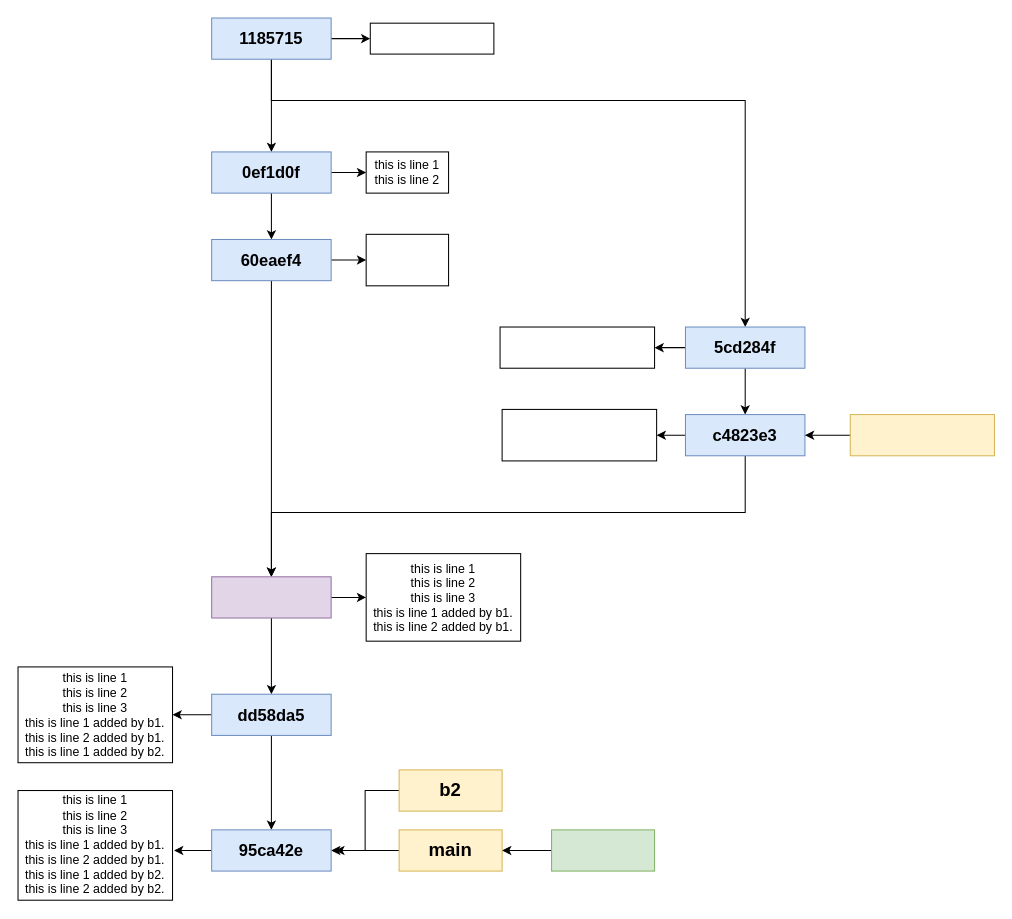
The diagram is 1012 pixels wide and 919 high, and some of its shapes have lost their labels. The centre of each missing label's shape, as x and y in pixels:
4fda909: (x=271, y=597)
HEAD: (x=603, y=850)
new-branch: (x=921, y=435)
this is line 1: (x=431, y=38)
this is line 1 this is line 1 added by b1.: (x=577, y=347)
this is line 1 this is line 1 added by b1. this is line 2 added by b1.: (x=579, y=434)
this is line 1 this is line 2 this is line 3: (x=407, y=259)
